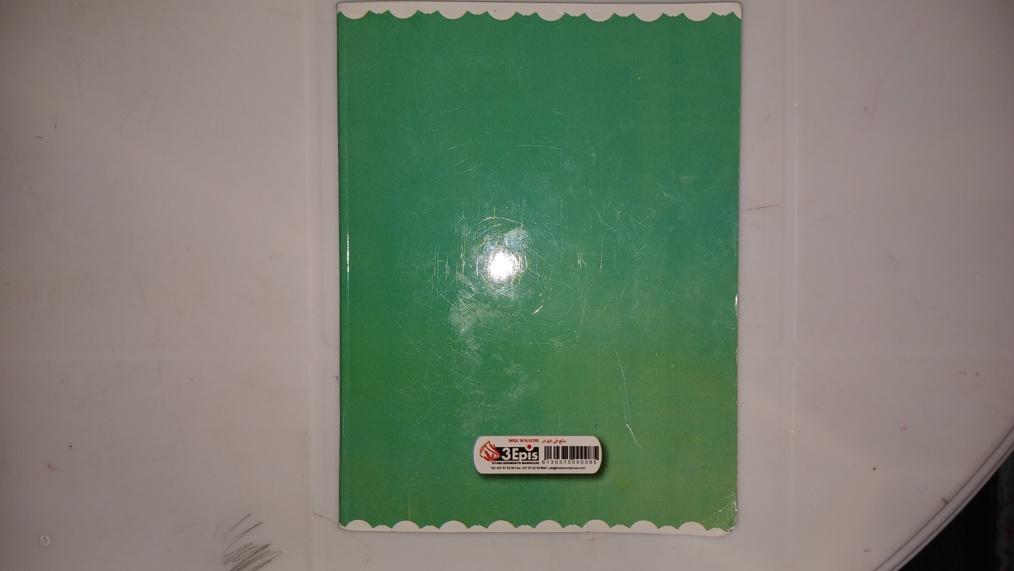notebook: (337, 2, 740, 533)
